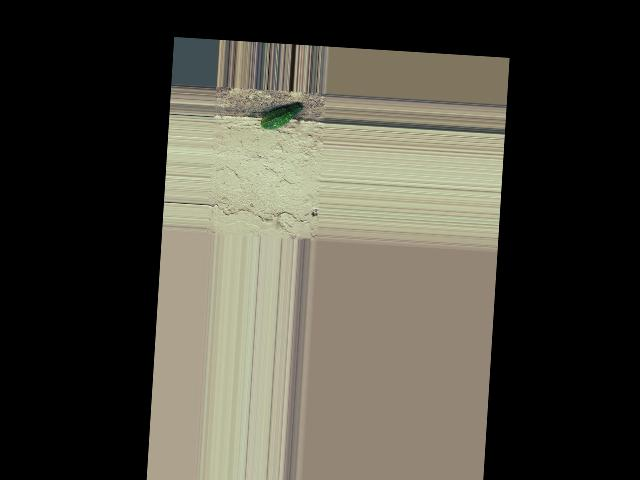cucumber: (260, 101, 301, 131)
